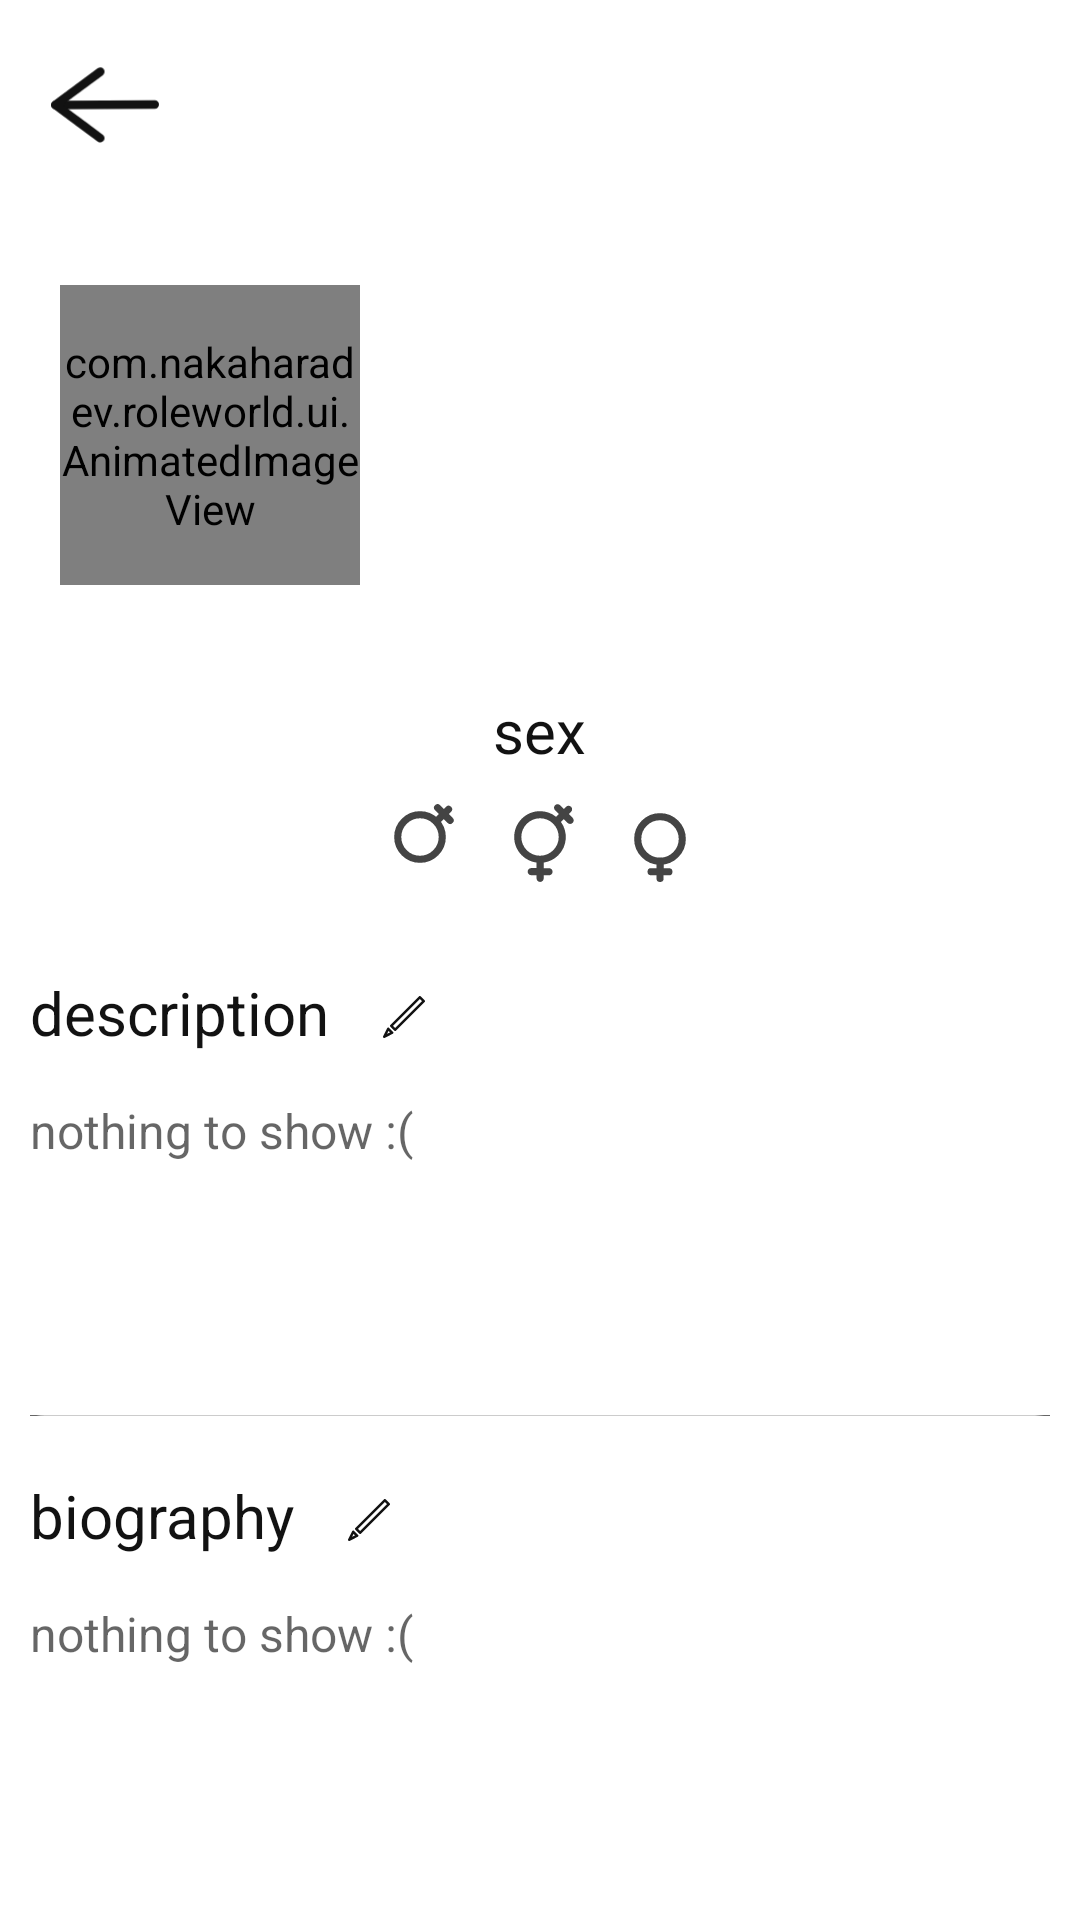

Where to tap for icons on this 1080px×1920px app screen, as [x,y]:
back: [105,105]
change: [404,1017], [369,1520]
female sex: [660,847]
hermaphrodite sex: [544,843]
male sex: [424,833]
